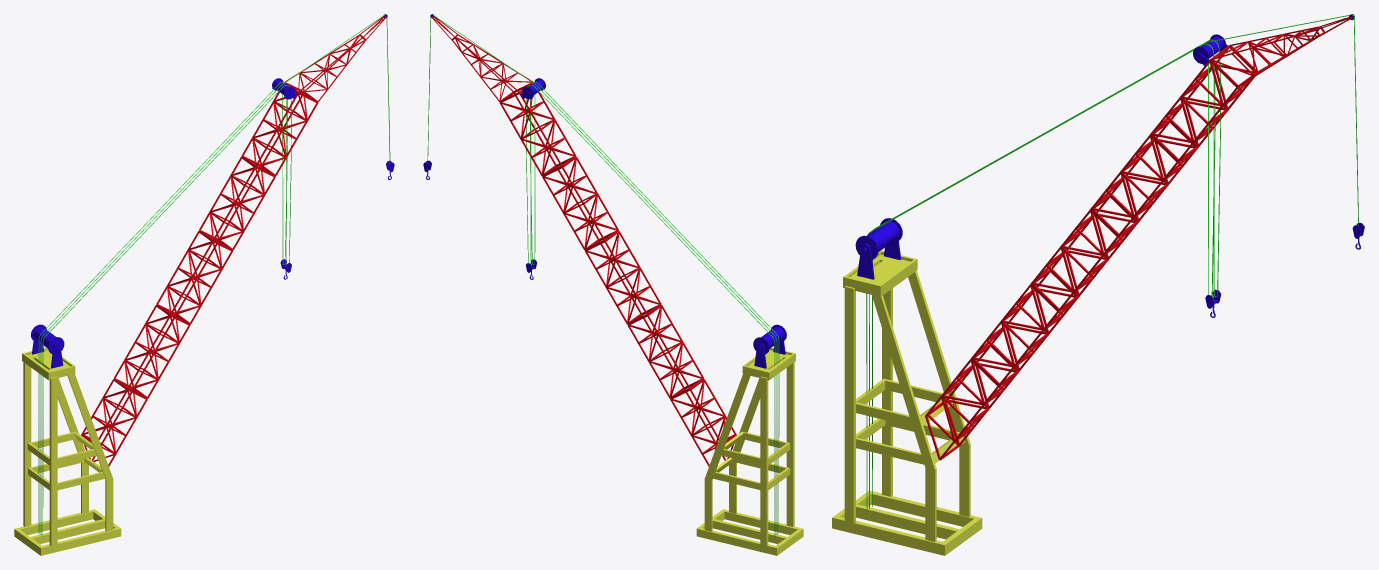
File: Crane_LowPoly.fbx
3 renders of one model, left to right at view 1: azimuth 30°, elevation 25°; view 2: azimuth 150°, elevation 25°; view 3: azimuth 330°, elevation 25°, orthographic. The views are drawn at different scales.
Parts seen in each view (by area): view 1: Crane; view 2: Crane; view 3: Crane.
Part boxes in pixels (x1,y1,x2,y2): Crane: (14,14,394,555); Crane: (423,14,803,555); Crane: (832,14,1364,555).
Size of the model in its own units: 1998 by 2320 by 265.
